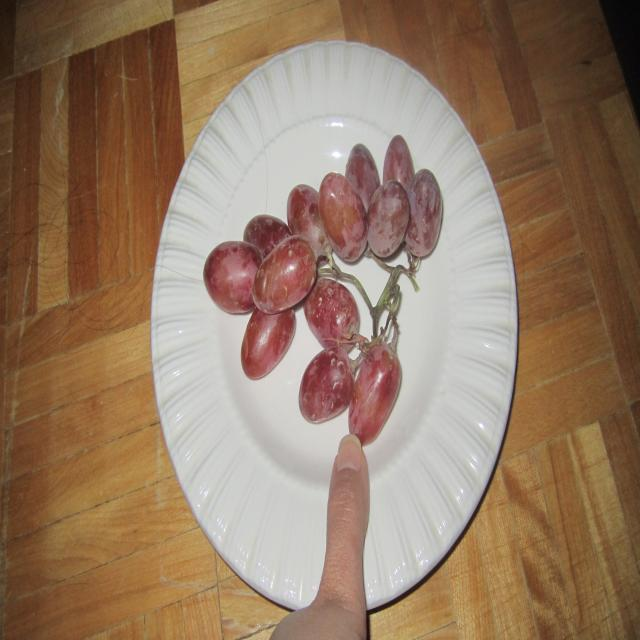grapes: (203, 133, 443, 447)
